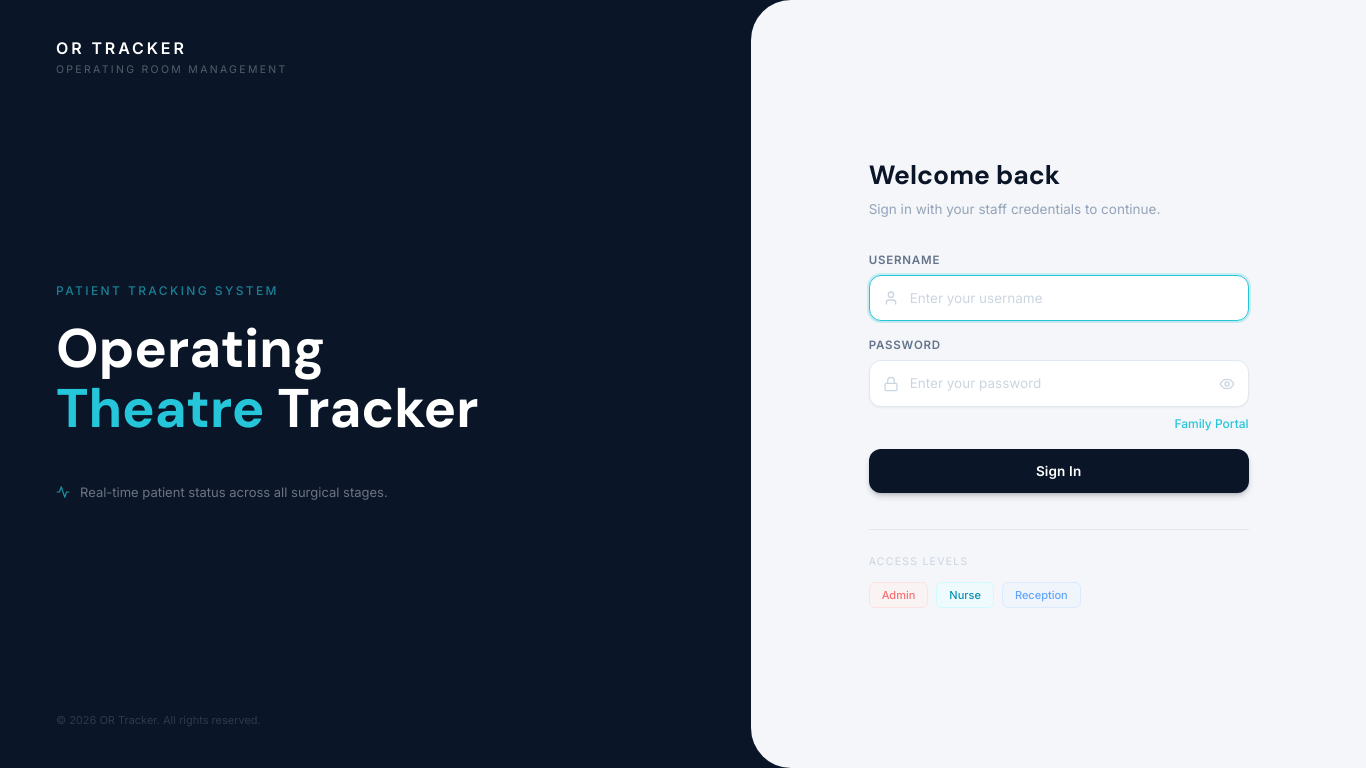
Scenario: LoginPage › shows error when login fails
Type "baduser" into the field with placeholder "Enter your username" at [1059, 298], box [869,275,1249,321]
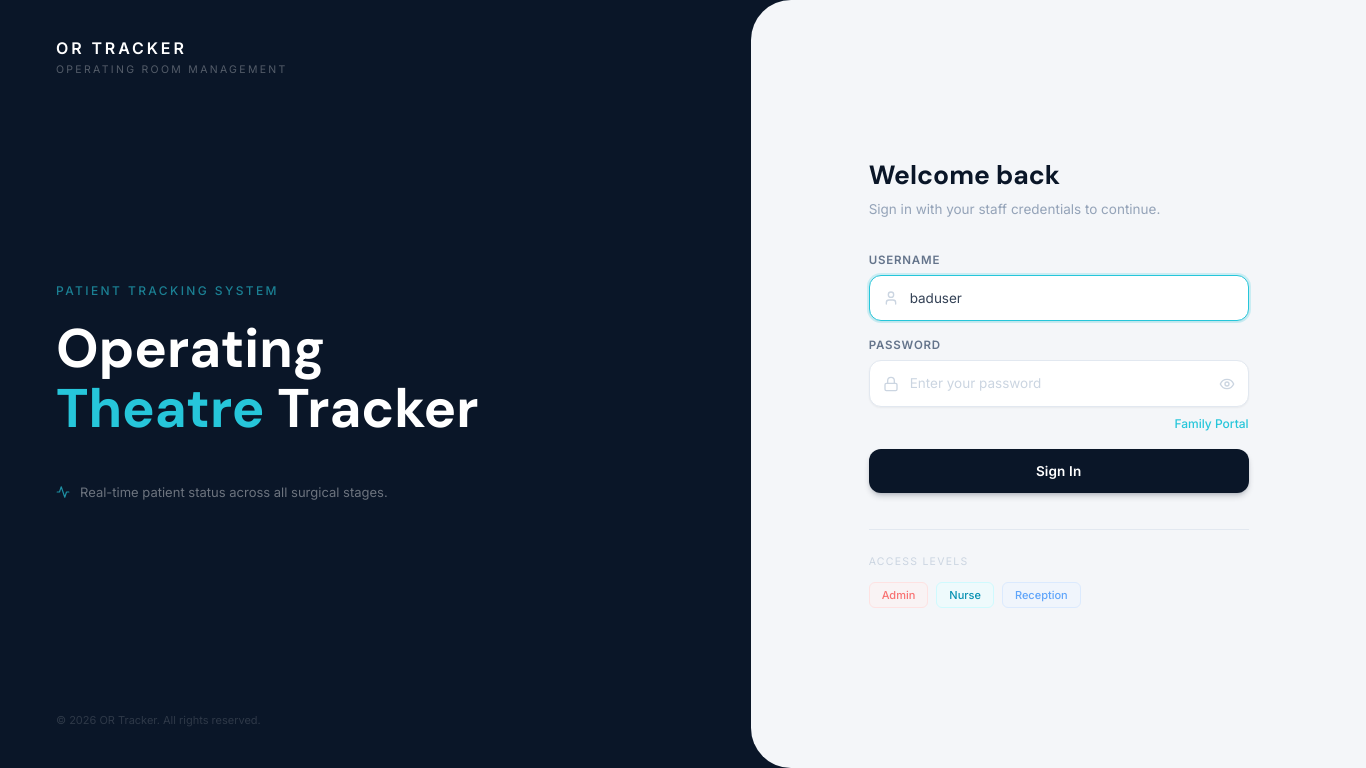
Type "badpass" into the password field with placeholder "Enter your password" at [1059, 384], box [869,360,1249,407]
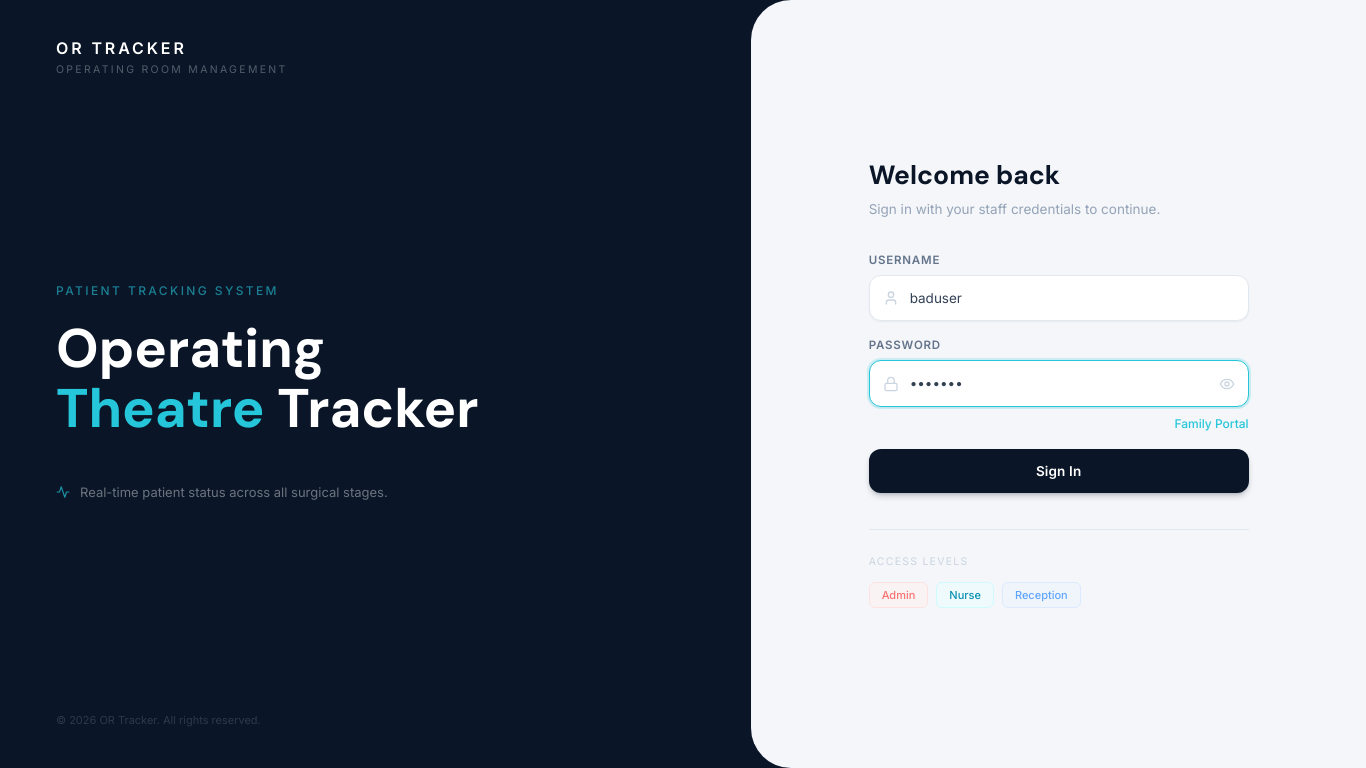
Click the button "Sign In" at [1059, 471], box [869,449,1249,493]
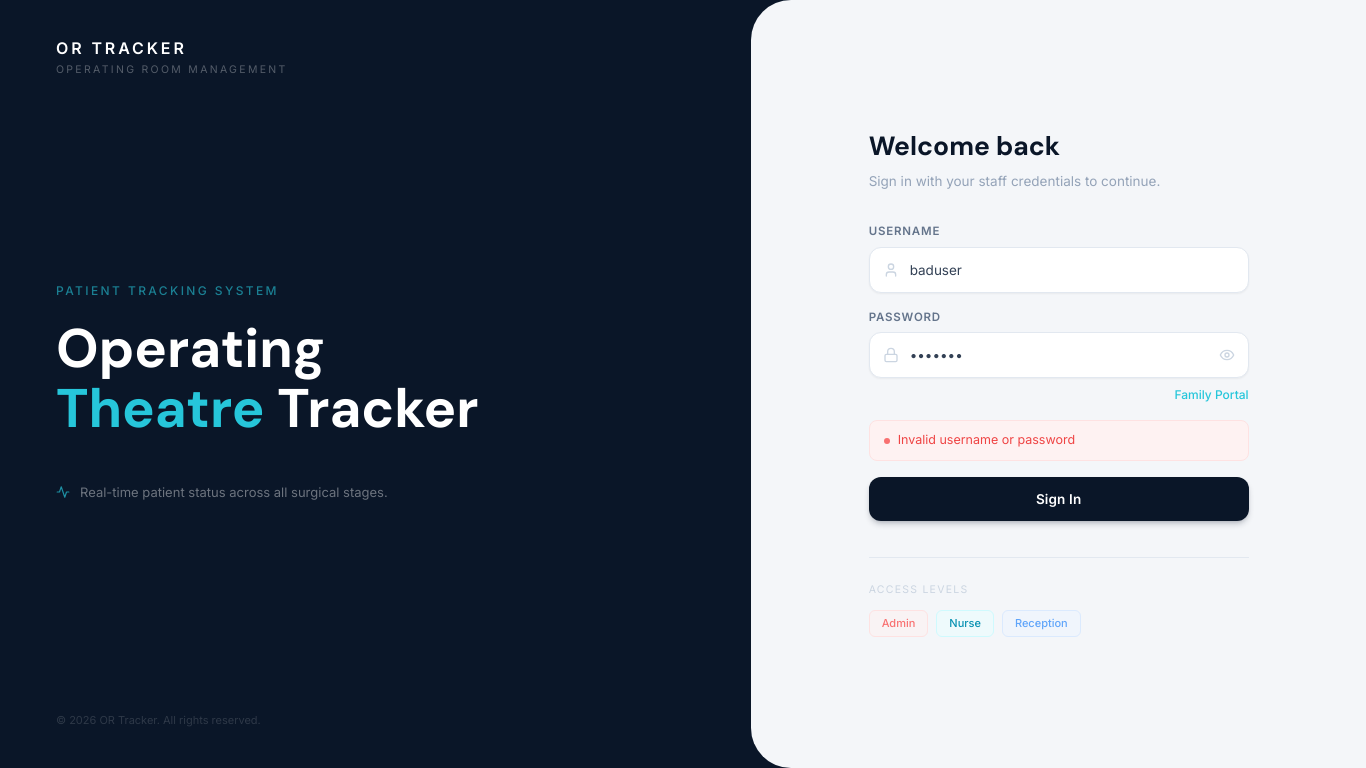
Now the text "Invalid username or password" is shown, box [898,431,1075,450]
